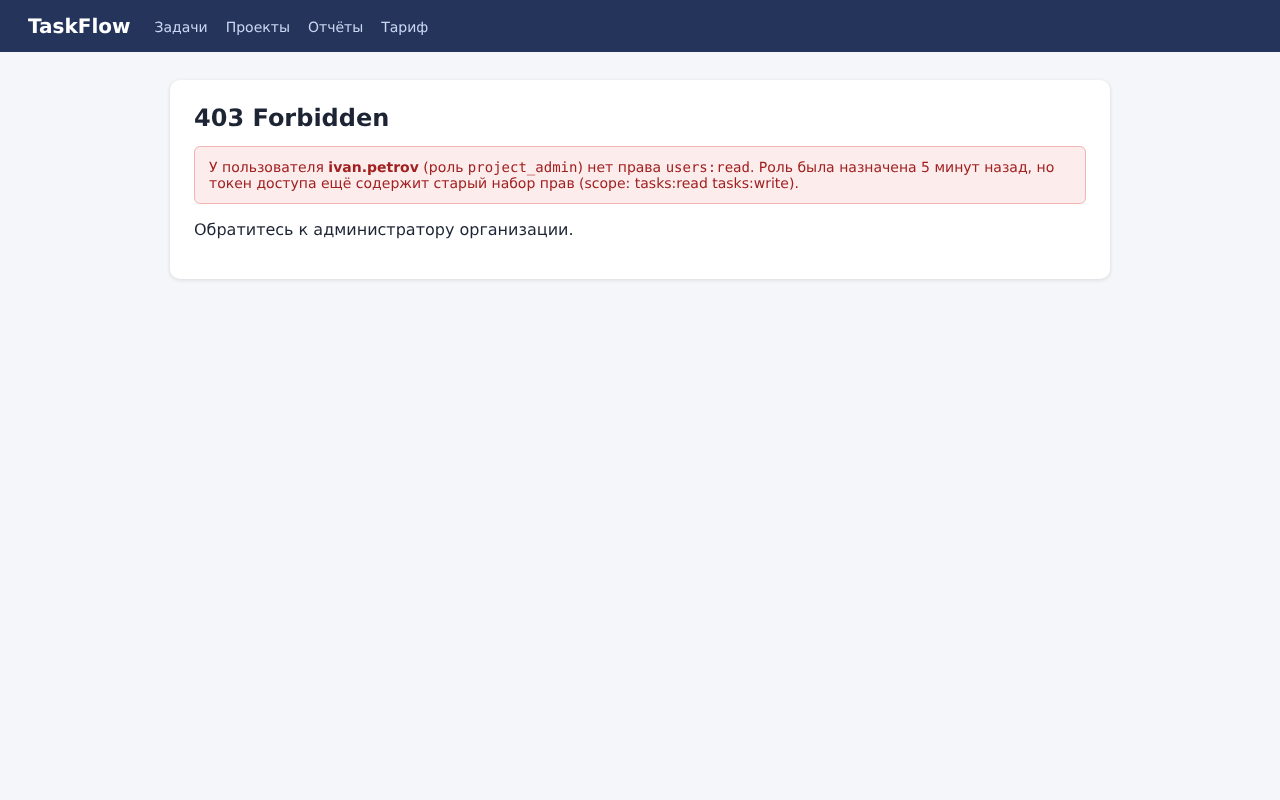ERROR_TEXT: (194, 146, 1086, 204)
PII: (329, 161, 419, 175)
STATUS_INDICATOR: (195, 107, 388, 127)
